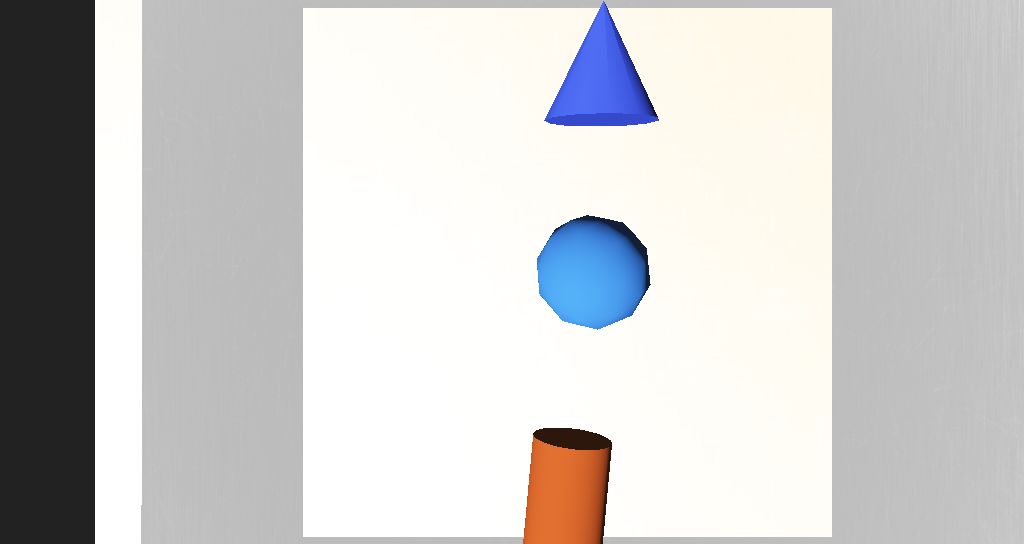cone: (482, 332, 529, 384)
cylinder: (495, 155, 556, 217)
sphere: (488, 243, 549, 291)
